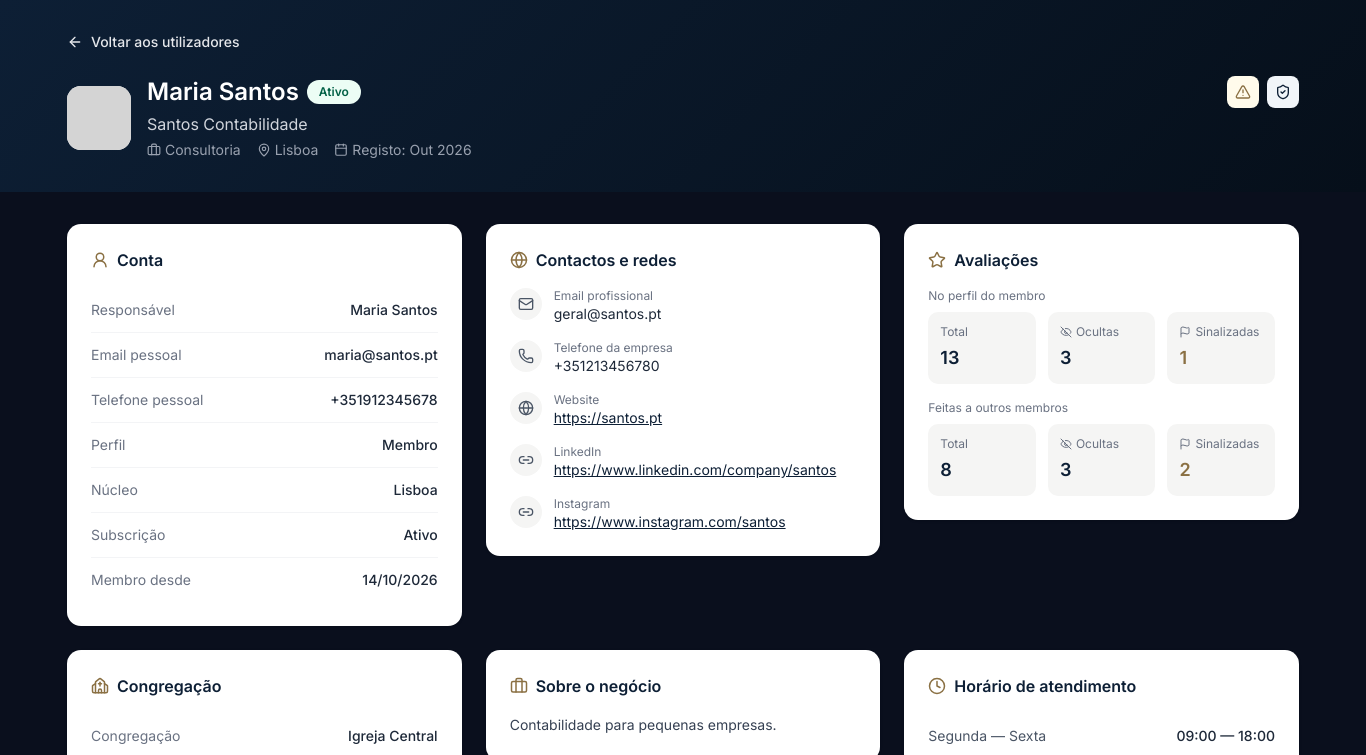
Detalhe do membro › promove um membro ativo sem contagem decrescente e mostra-o como admin depois de recarregar
The width and height of the screenshot is (1366, 755).
Click the button named "Promover a administrador Maria Santos" at [1283, 92], box x1=1267 y1=76 x2=1299 y2=108
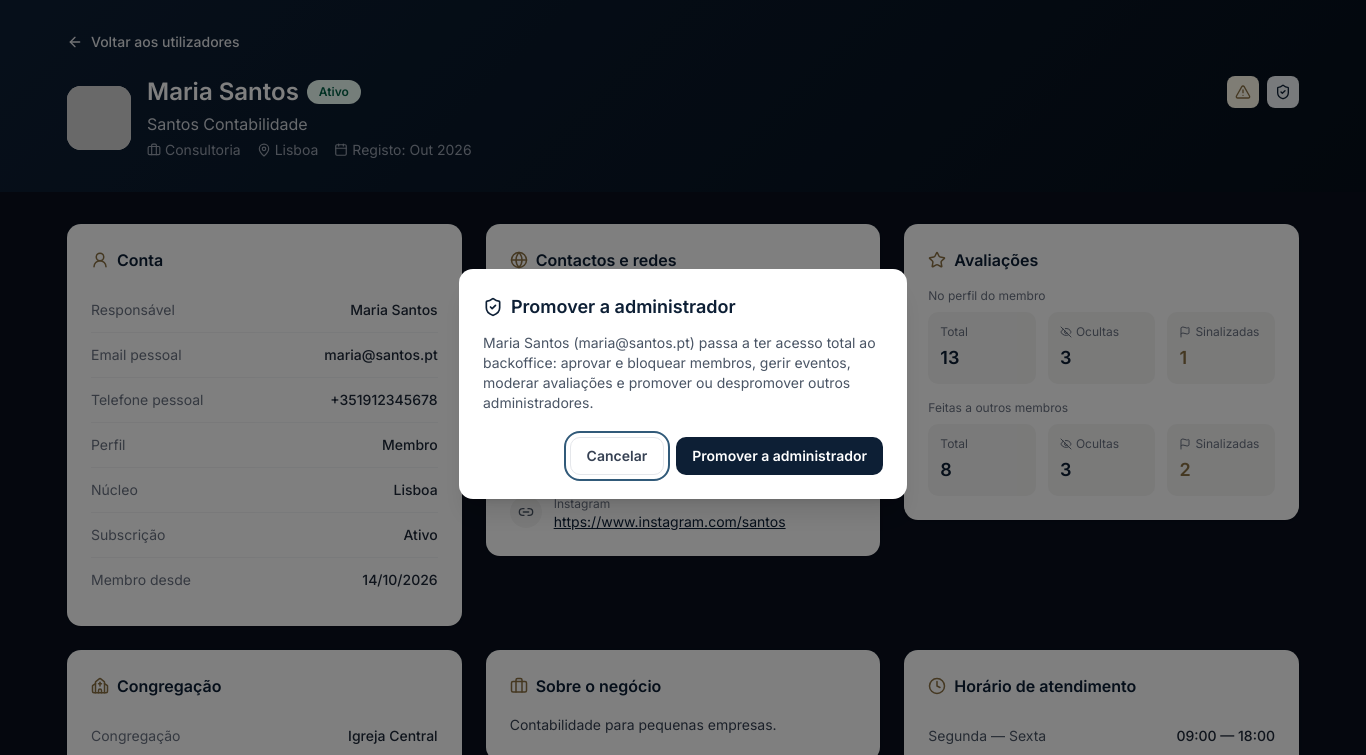
Check: the button "Promover a administrador" is enabled
Click the button "Promover a administrador" at [780, 456], box x1=676 y1=437 x2=883 y2=475
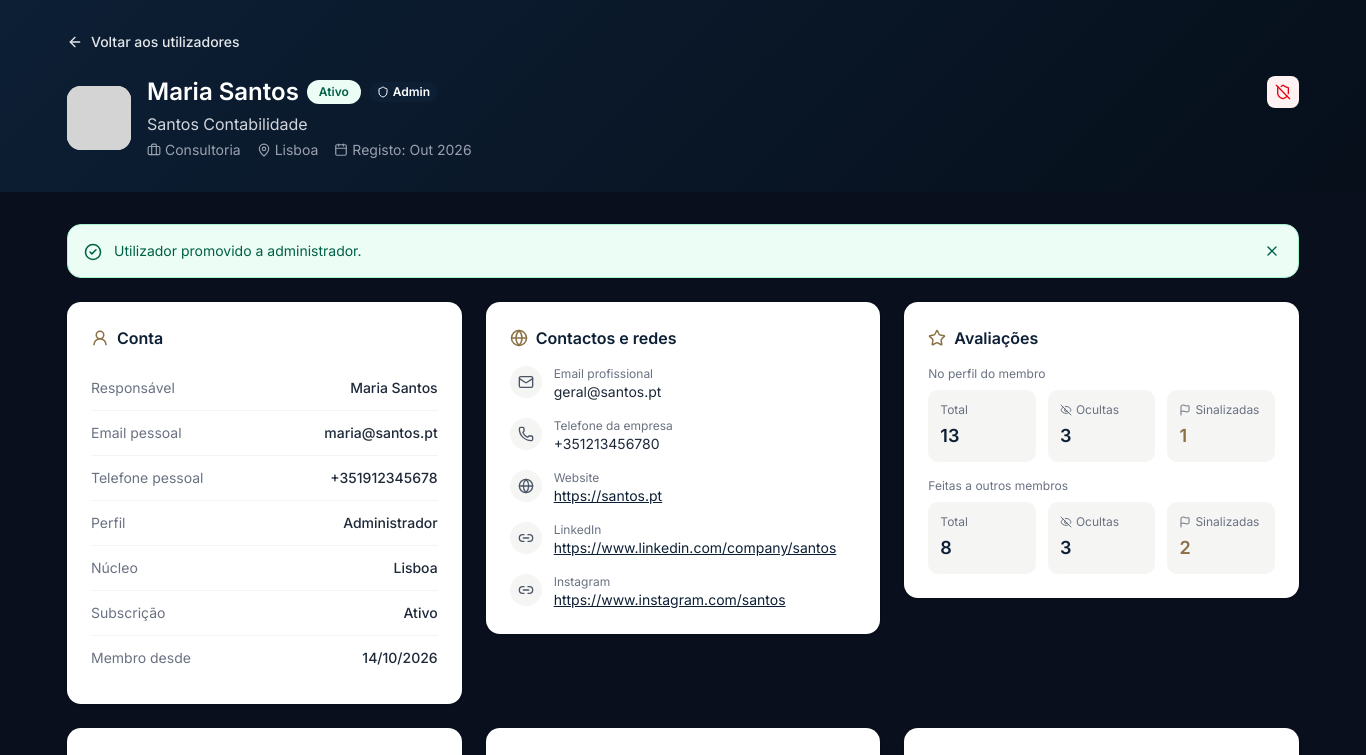
Check: the text "Utilizador promovido a administrador." is shown, box x1=67 y1=224 x2=1299 y2=278
Check: the button named "Despromover Maria Santos" is shown, box x1=1267 y1=76 x2=1299 y2=108
Check: the text "Admin" is shown, box x1=369 y1=82 x2=438 y2=102
